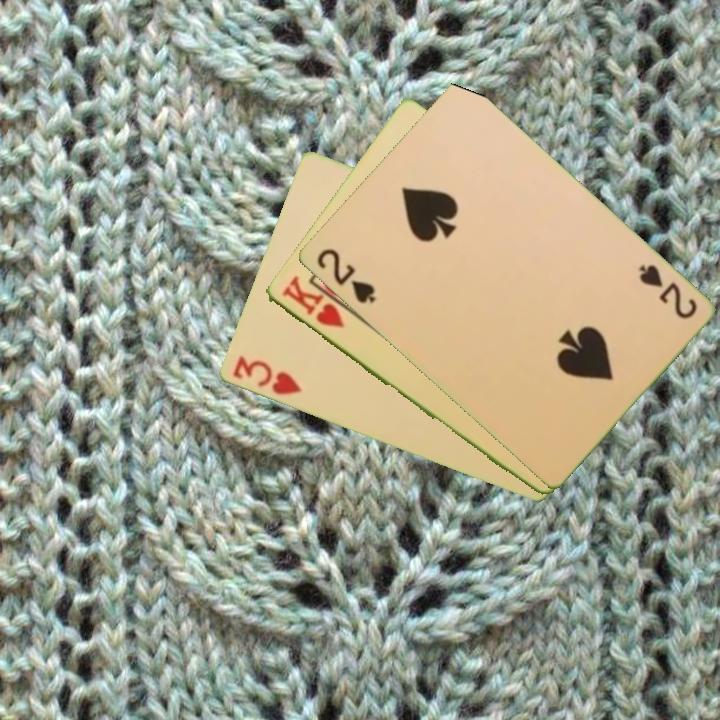2s: (312, 245, 378, 307), (634, 261, 700, 322)
3h: (228, 352, 305, 398)
Kh: (277, 272, 347, 332)
